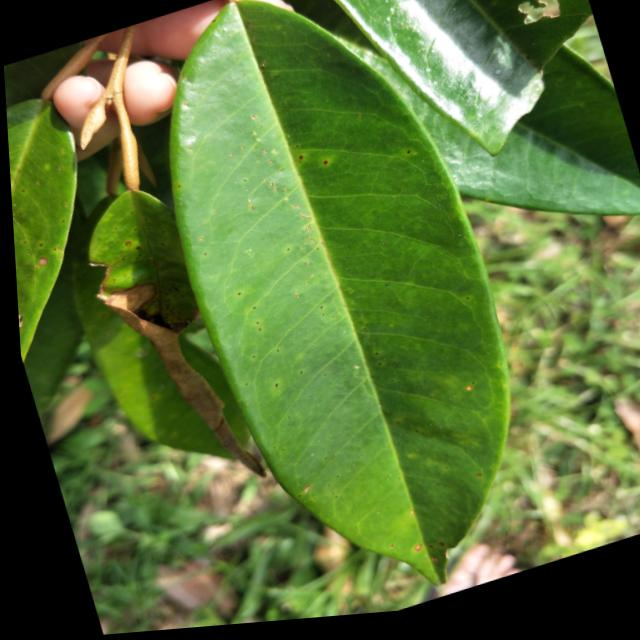Leaf Spot: (185, 222, 321, 436), (281, 128, 355, 200)
